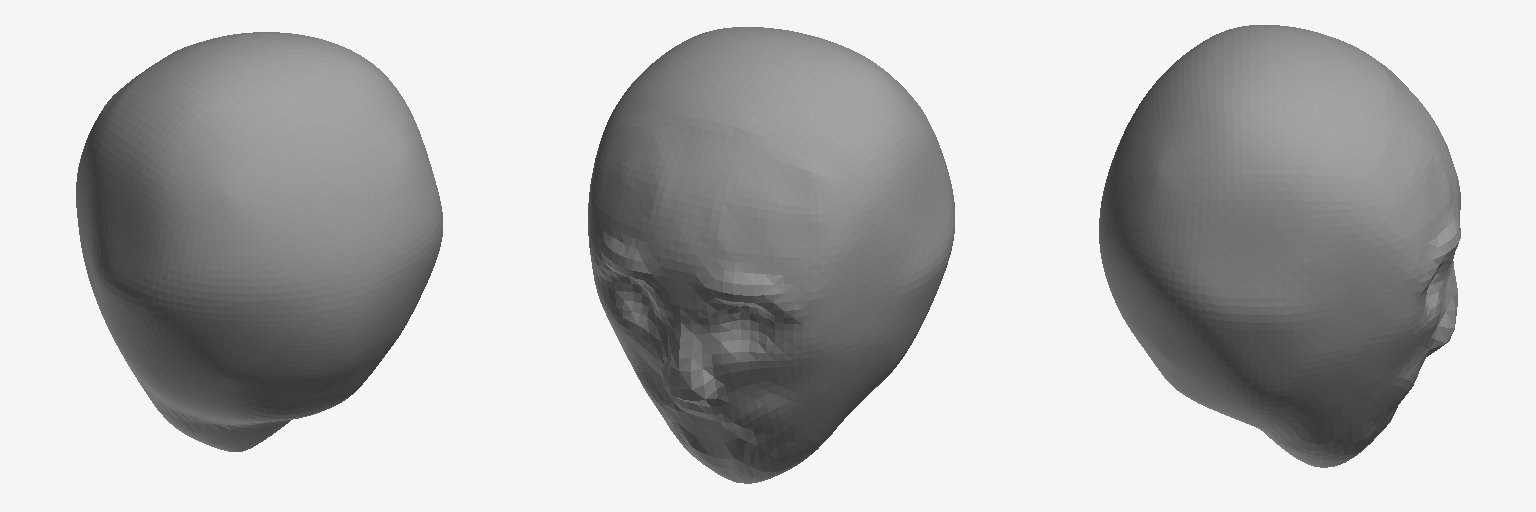
File: head0.obj
3 renders of one model, left to right at view 1: azimuth 30°, elevation 25°; view 2: azimuth 150°, elevation 25°; view 3: azimuth 270°, elevation 25°, orthographic.
Parts seen in each view (by area): view 1: Cube; view 2: Cube; view 3: Cube.
Boxes of the visible parts, x1,y1,x2,y2 form: Cube: [76, 32, 442, 451]; Cube: [588, 27, 954, 483]; Cube: [1099, 25, 1460, 467].
Size of the model in its own units: 1.52 by 1.97 by 1.55.